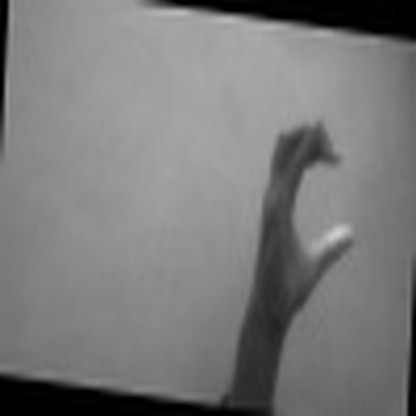c: (257, 110, 360, 310)
